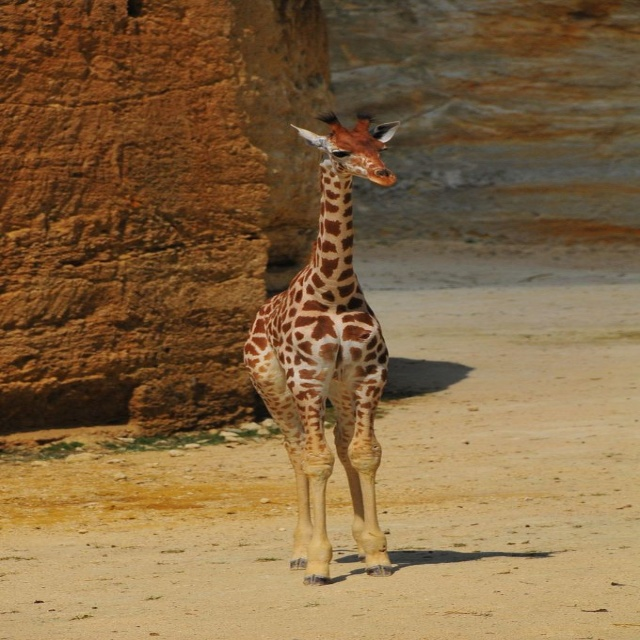Giraffe: (242, 86, 412, 596)
